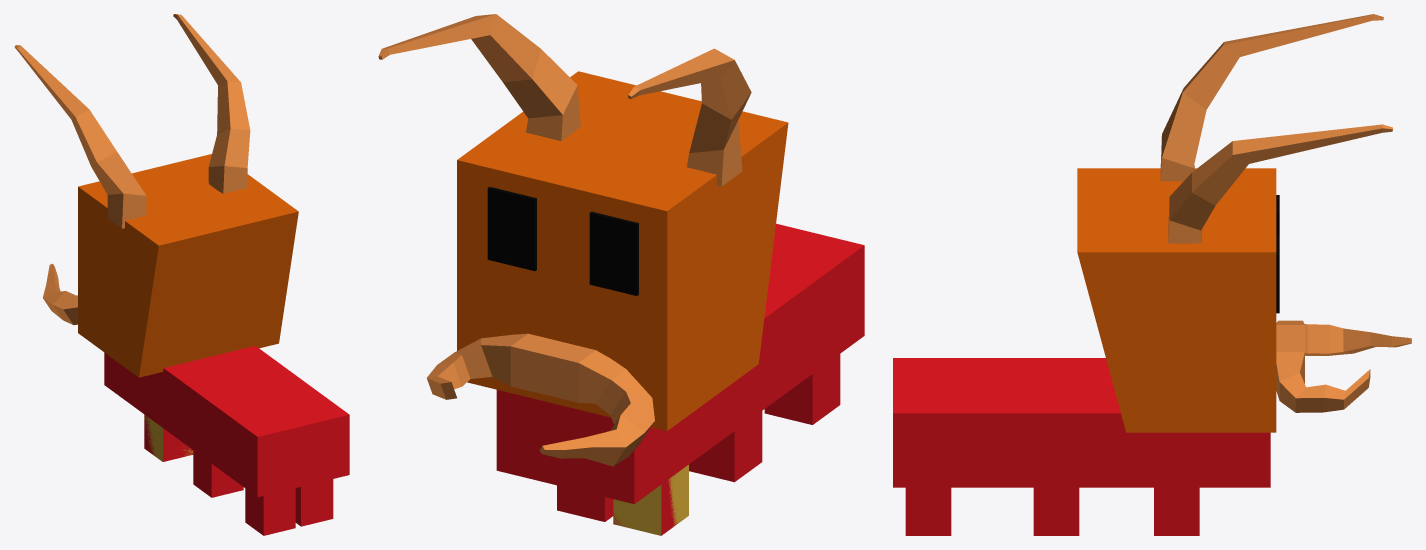
The model's file is Bug.fbx.
3 renders of one model, left to right at view 1: azimuth 30°, elevation 25°; view 2: azimuth 150°, elevation 25°; view 3: azimuth 270°, elevation 25°, orthographic. The views are drawn at different scales.
Parts seen in each view (by area): view 1: Head, Body, Cube.001, Cube, Leg2.003, Leg1.002, Leg2.002, Nouse, Leg2, Leg2.001; view 2: Head, Body, Nouse, Cube, Cube.001, Eye1, Eye2, Leg2.003, Leg2.002, Leg2.001, Leg1, Leg2; view 3: Head, Body, Cube, Cube.001, Nouse, Leg1.001, Leg1.002, Leg1.
Boxes of the visible parts, <box> form: Head: <box>78,154,298,377</box>; Body: <box>104,345,349,497</box>; Cube.001: <box>14,45,146,228</box>; Cube: <box>173,14,250,193</box>; Leg2.003: <box>245,488,295,535</box>; Leg1.002: <box>295,479,333,526</box>; Leg2.002: <box>193,450,243,497</box>; Nouse: <box>43,263,77,324</box>; Leg2: <box>144,415,193,461</box>; Leg2.001: <box>144,415,193,461</box>; Head: <box>457,71,788,430</box>; Body: <box>496,223,864,504</box>; Nouse: <box>427,333,654,466</box>; Cube: <box>378,14,580,141</box>; Cube.001: <box>628,48,751,186</box>; Eye1: <box>589,211,638,295</box>; Eye2: <box>487,187,536,271</box>; Leg2.003: <box>764,354,840,424</box>; Leg2.002: <box>689,411,762,482</box>; Leg2.001: <box>613,464,688,535</box>; Leg1: <box>557,485,613,521</box>; Leg2: <box>613,479,676,535</box>; Head: <box>1077,168,1276,432</box>; Body: <box>893,358,1270,487</box>; Cube: <box>1168,124,1392,243</box>; Cube.001: <box>1160,14,1383,181</box>; Nouse: <box>1276,320,1411,412</box>; Leg1.001: <box>1033,487,1079,535</box>; Leg1.002: <box>905,487,951,535</box>; Leg1: <box>1154,487,1199,535</box>.
Bounding box in the file's own units: 246 × 501 × 526.
